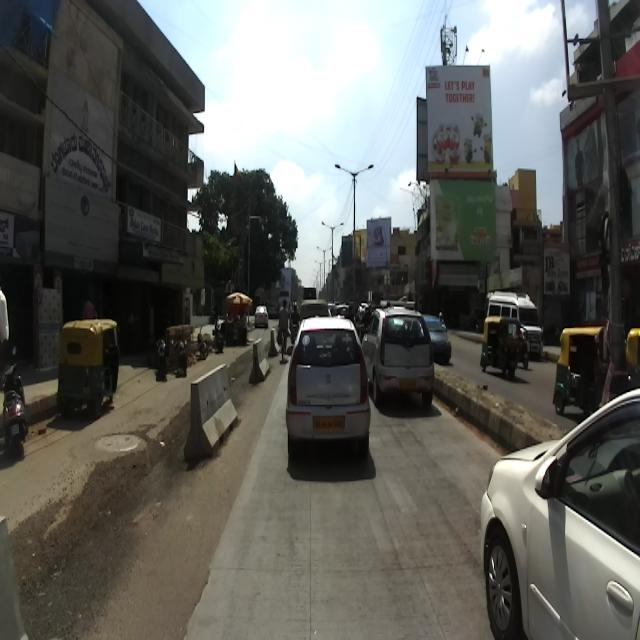auto ahead at: (52, 314, 126, 418)
barrier ahead at: (186, 363, 240, 453)
car ahead at: (484, 388, 640, 640), (290, 306, 372, 447), (378, 298, 436, 422)
motorcycle ahead at: (0, 346, 29, 456)
